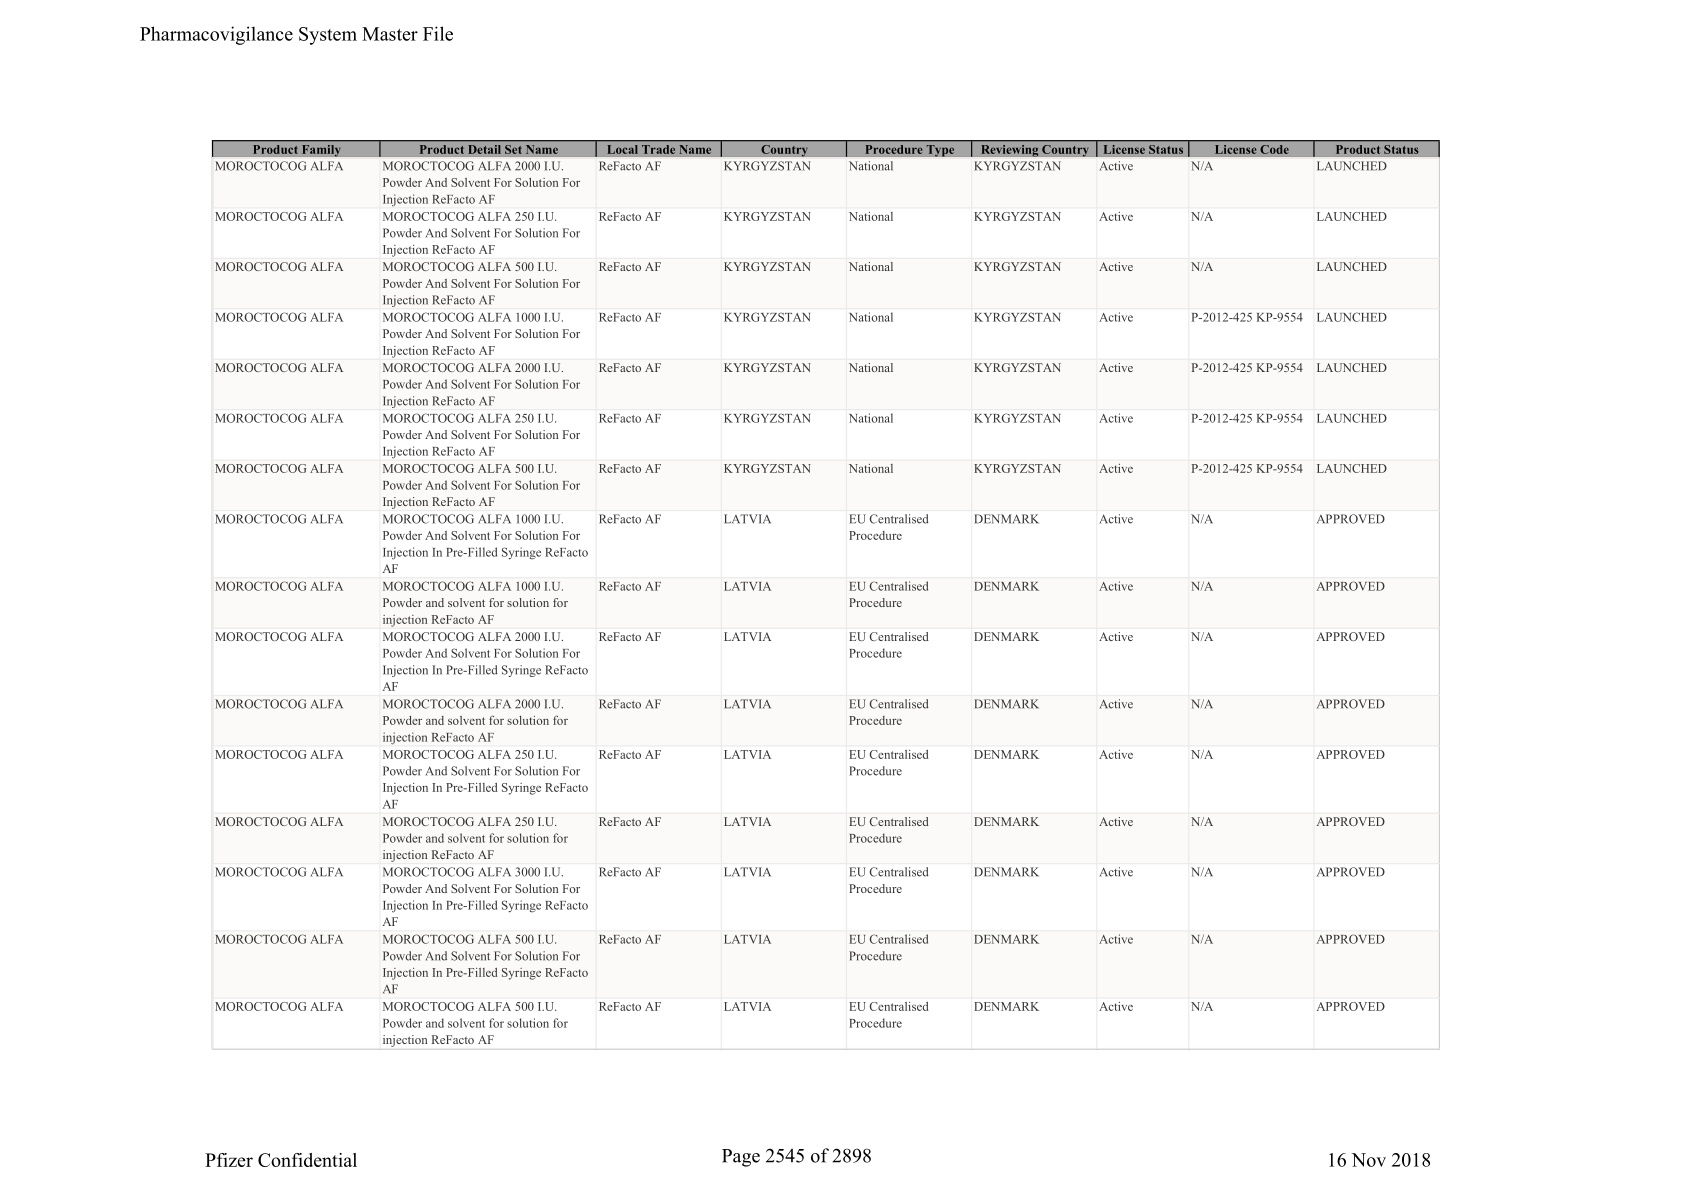full_lined: (210, 139, 1441, 1051)
